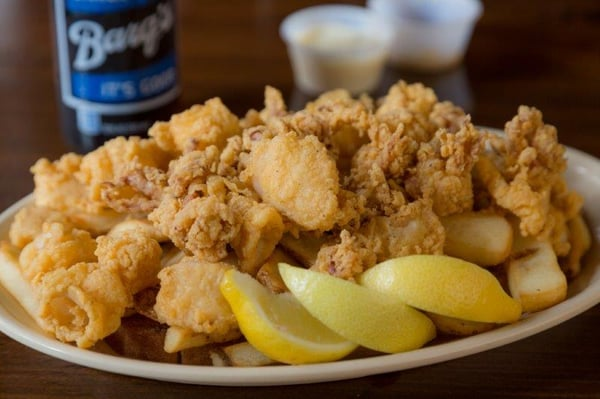pizza: (278, 5, 401, 101)
